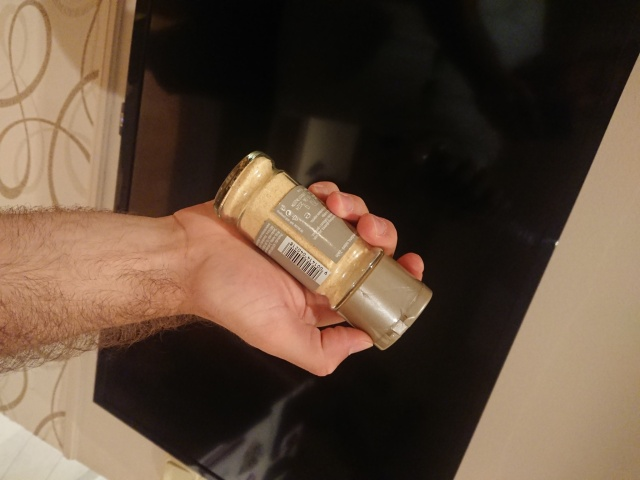Kotanyi Garlic Granules 70g: (210, 144, 435, 353)
